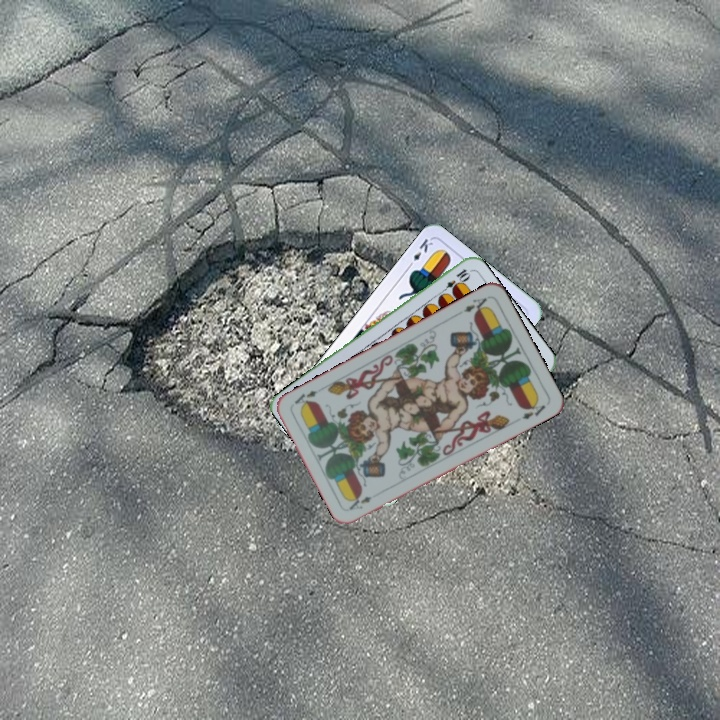E10: (436, 265, 472, 297)
EA: (460, 294, 489, 317), (345, 492, 374, 513)
EK: (404, 234, 436, 271)
